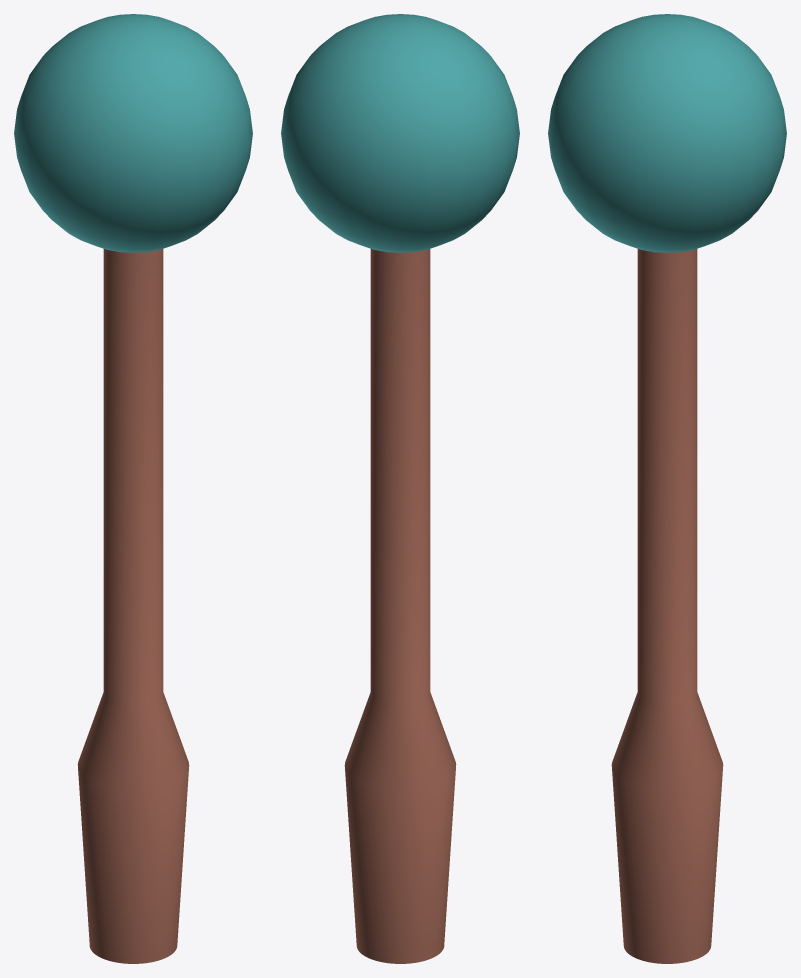
Rendered from enchanted-harp-garden-and-music-sanctuary-chime-strike-c060081a__30417.glb.
3 views of the same model, side by side, from view 1: azimuth 30°, elevation 25°; view 2: azimuth 150°, elevation 25°; view 3: azimuth 270°, elevation 25° (orthographic).
Parts seen in each view (by area): view 1: chime-striker; view 2: chime-striker; view 3: chime-striker.
Part boxes in pixels (x1,y1,x2,y2): chime-striker: [14, 14, 252, 963]; chime-striker: [281, 14, 519, 963]; chime-striker: [548, 14, 786, 963].
Bounding box in the file's own units: 0.12 × 0.51 × 0.12.
